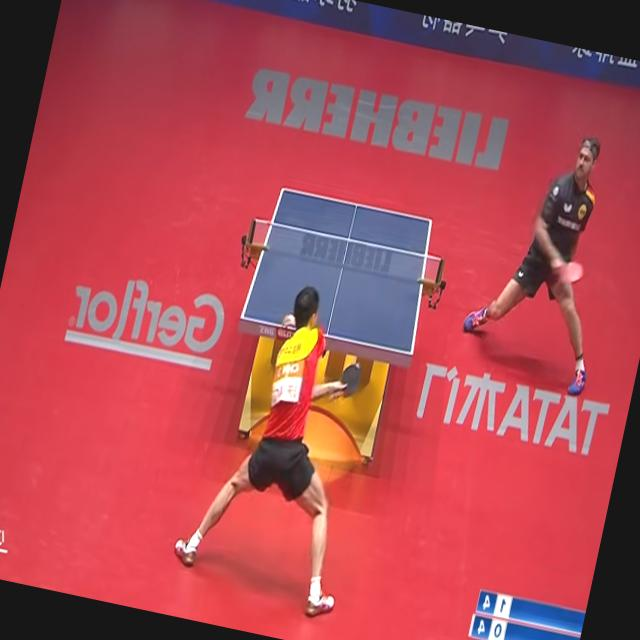TT Net: (245, 216, 444, 288)
TT Racket: (546, 253, 589, 295), (339, 359, 363, 402)
TT Table: (240, 184, 441, 354)
